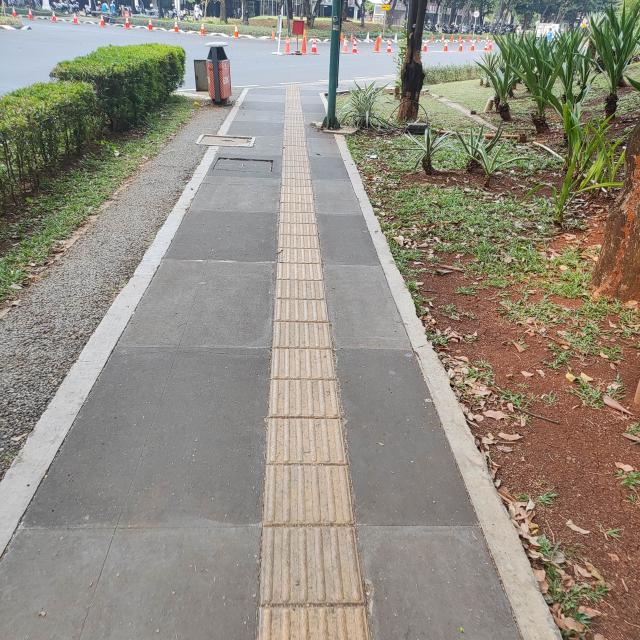lurus: (266, 111, 360, 640)
